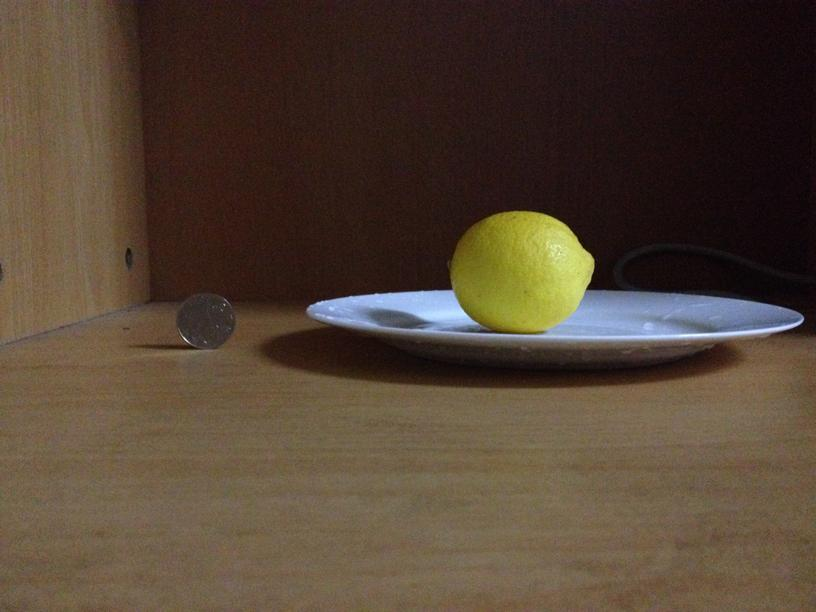coin: (177, 290, 236, 348)
lemon: (448, 209, 595, 333)
